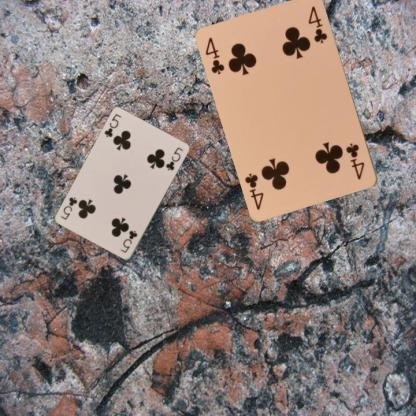4c: (203, 35, 226, 76), (344, 140, 366, 182)
5c: (118, 228, 139, 254), (102, 112, 122, 138)
